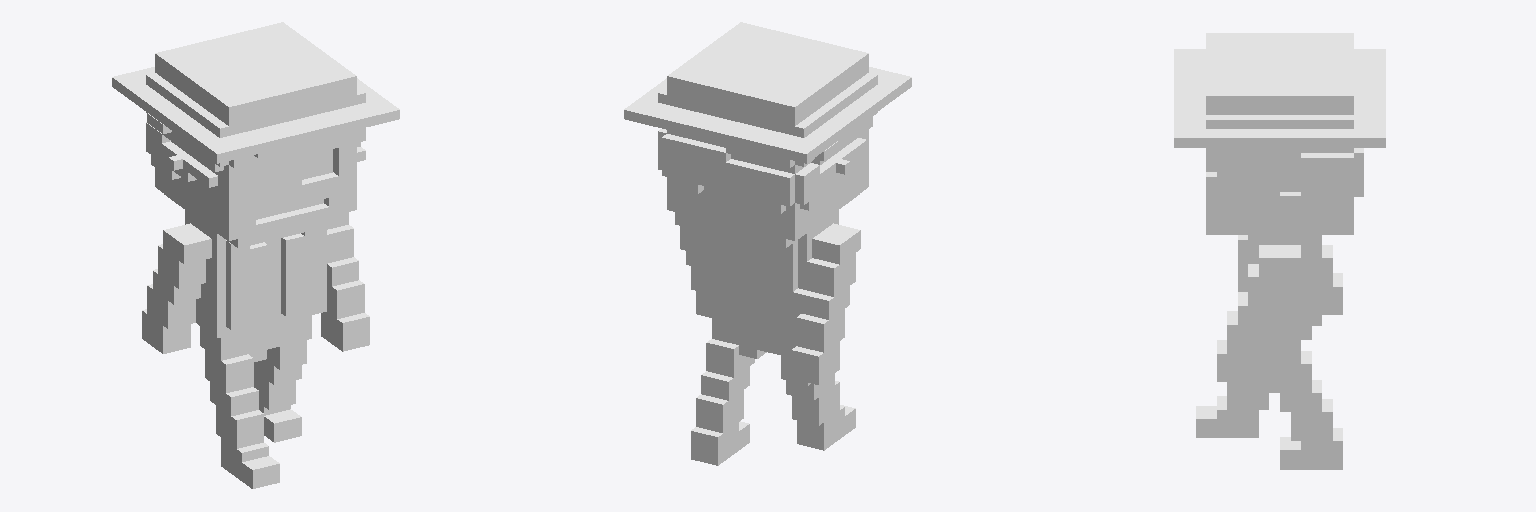
Rendered from pirate2_walk_1.obj.
3 renders of one model, left to right at view 1: azimuth 30°, elevation 25°; view 2: azimuth 150°, elevation 25°; view 3: azimuth 270°, elevation 25°, orthographic.
Visible parts, largest first — view 1: object 1; view 2: object 1; view 3: object 1.
Part boxes in pixels (x1,y1,x2,y2): object 1: (112,22,399,488); object 1: (624,22,911,465); object 1: (1174,33,1385,469).
Size of the model in its own units: 2 by 4 by 2.